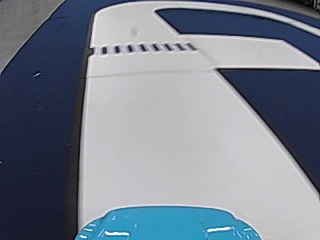CrossWalk: (95, 40, 195, 56)
